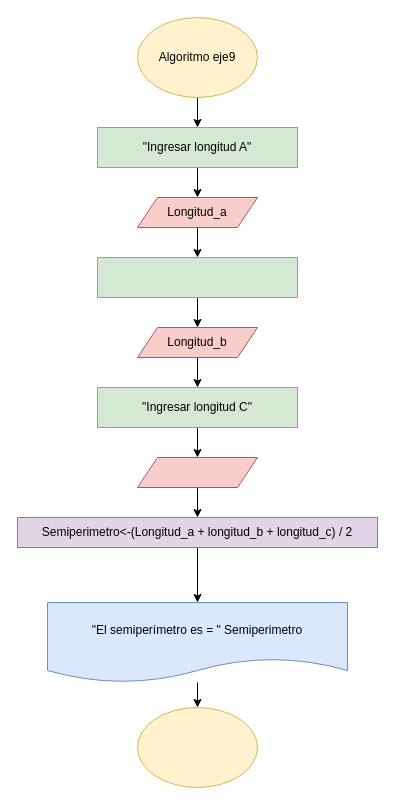
Image size: 395x805. Some labels were removed from this diagram. Each missing label, with the centre of its shape:
"Ingresar longitud B": (x=197, y=277)
FinAlgoritmo: (x=197, y=747)
Longitud_c: (x=197, y=472)
